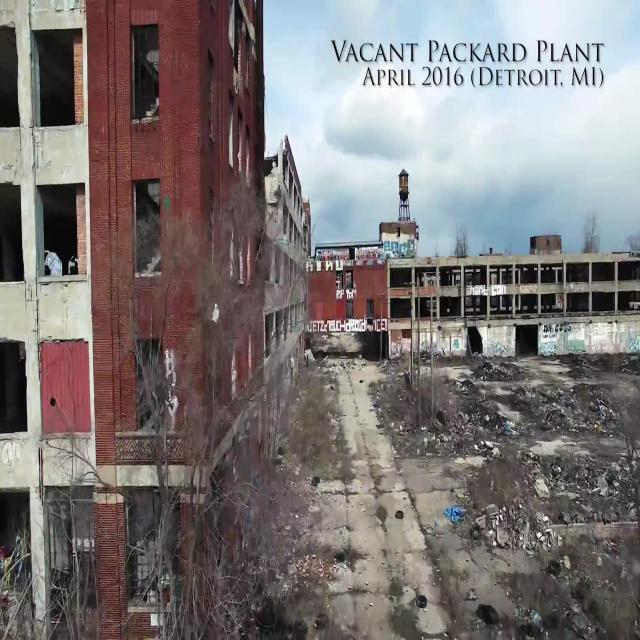Smoke: (134, 221, 284, 441)
